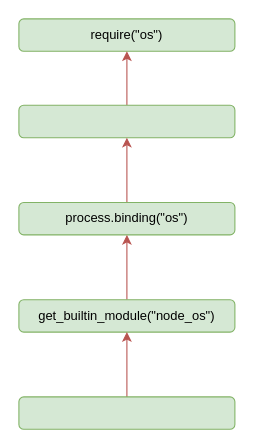
Some shapes in this 254 by 448 pixel diagram are drawn without their labels. The centre of each missing label's shape, as x and y in pixels:
NativeModule.require("os"): [126,121]
NODE_MODULE(node_os, reg_func): [126,412]
